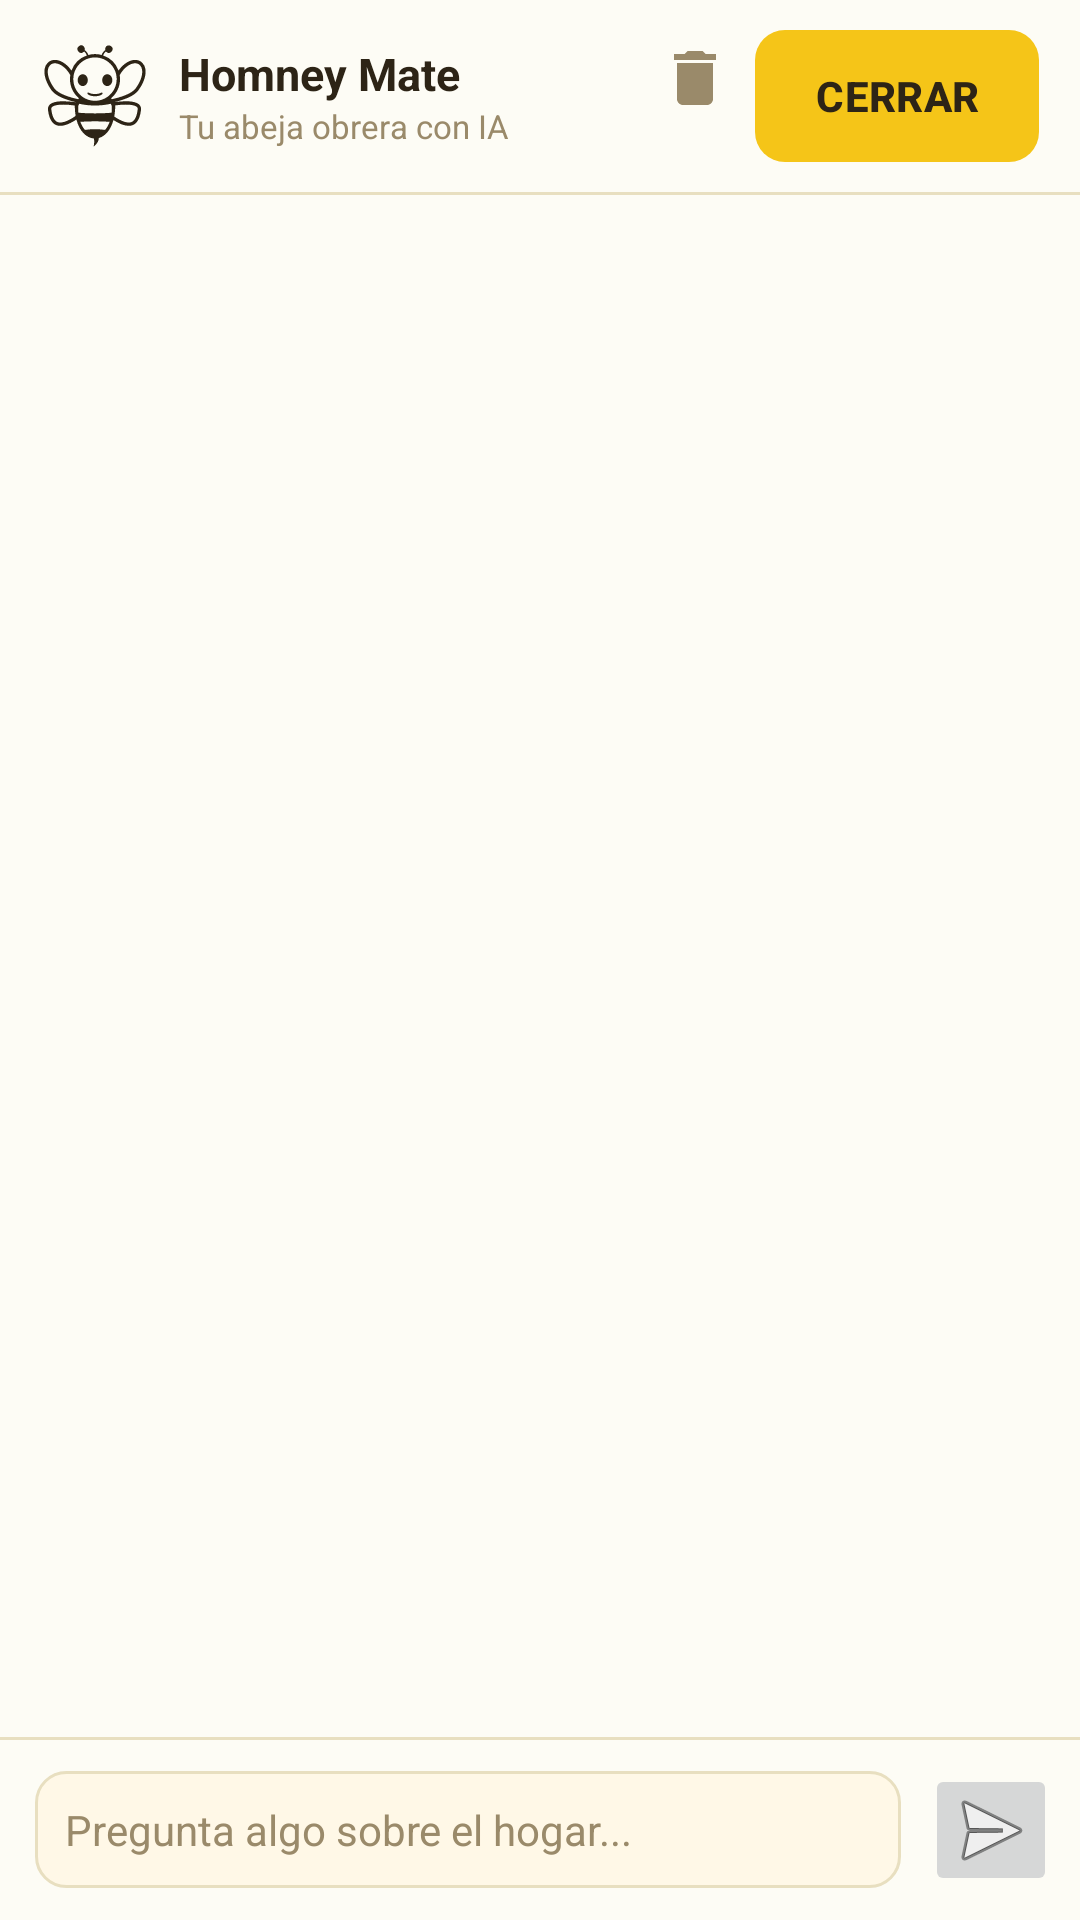

Where to tap for icons on this 1080 x 1920 app screen, as [x,y]:
Enviar: [991,1830]
Limpiar historial: [695,78]
